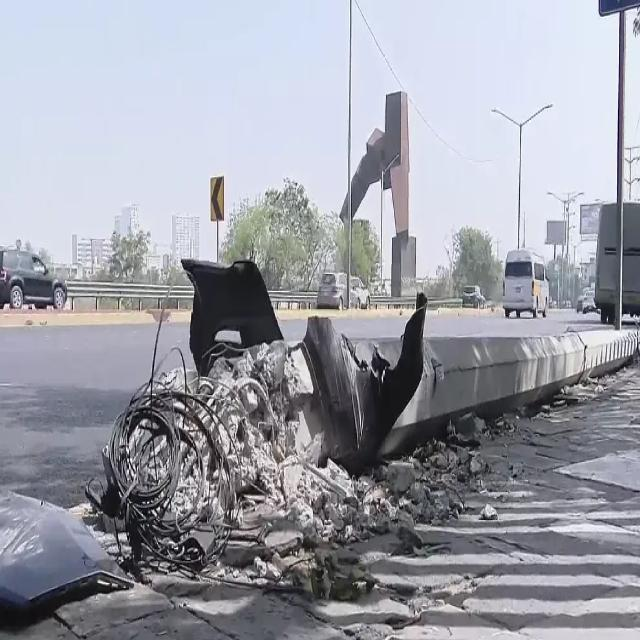Inclined Pole: (81, 234, 640, 560)
